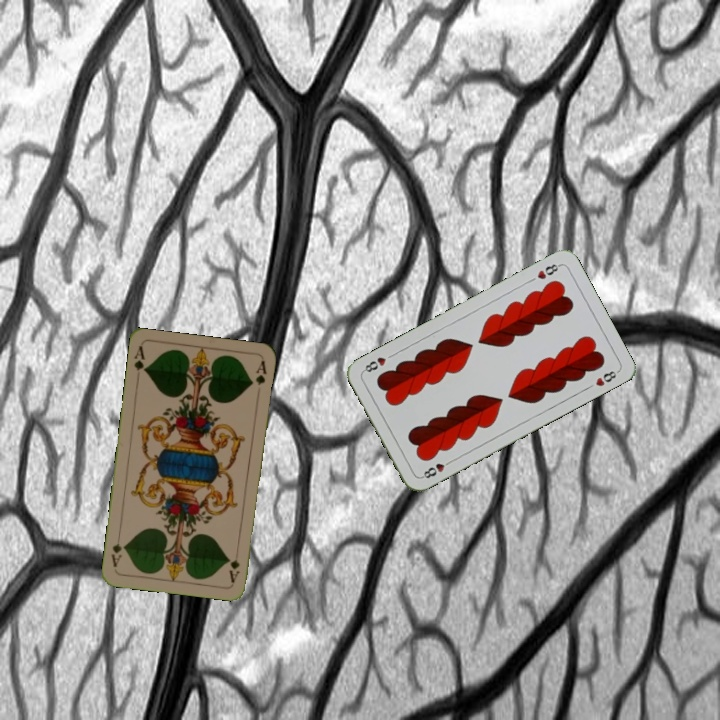GA: (130, 343, 149, 383), (226, 555, 243, 585)
H8: (417, 456, 455, 481), (533, 260, 563, 282)
